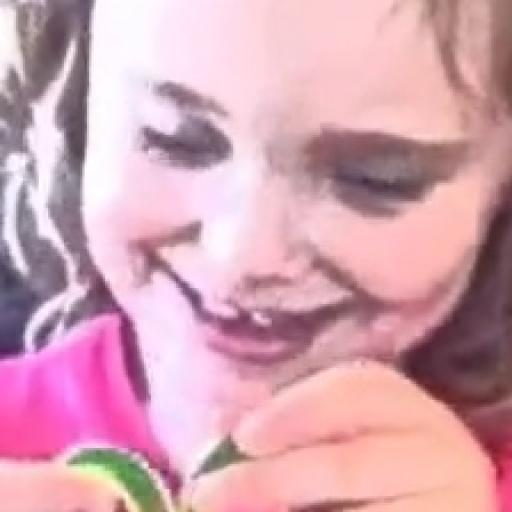Autism: (68, 0, 512, 480)
